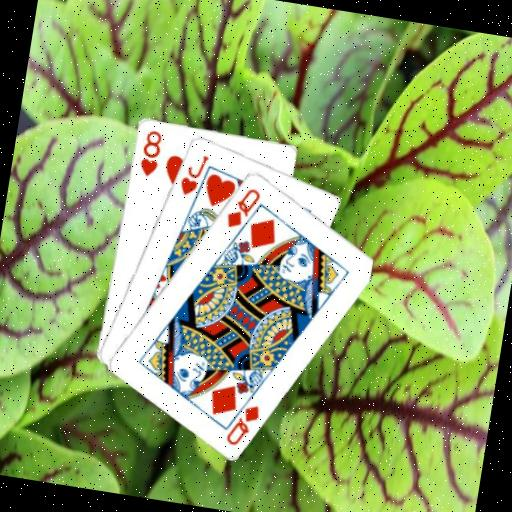8H: (134, 125, 164, 178)
JH: (175, 148, 211, 199)
QD: (222, 180, 263, 232), (221, 398, 262, 450)
